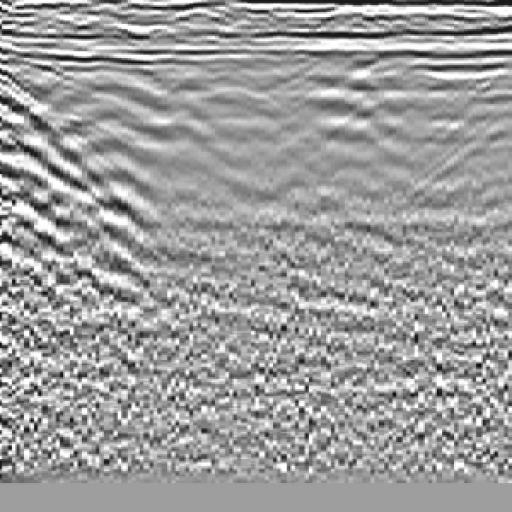metalic: (254, 25, 422, 287)
nonmetalic: (1, 52, 112, 303)
